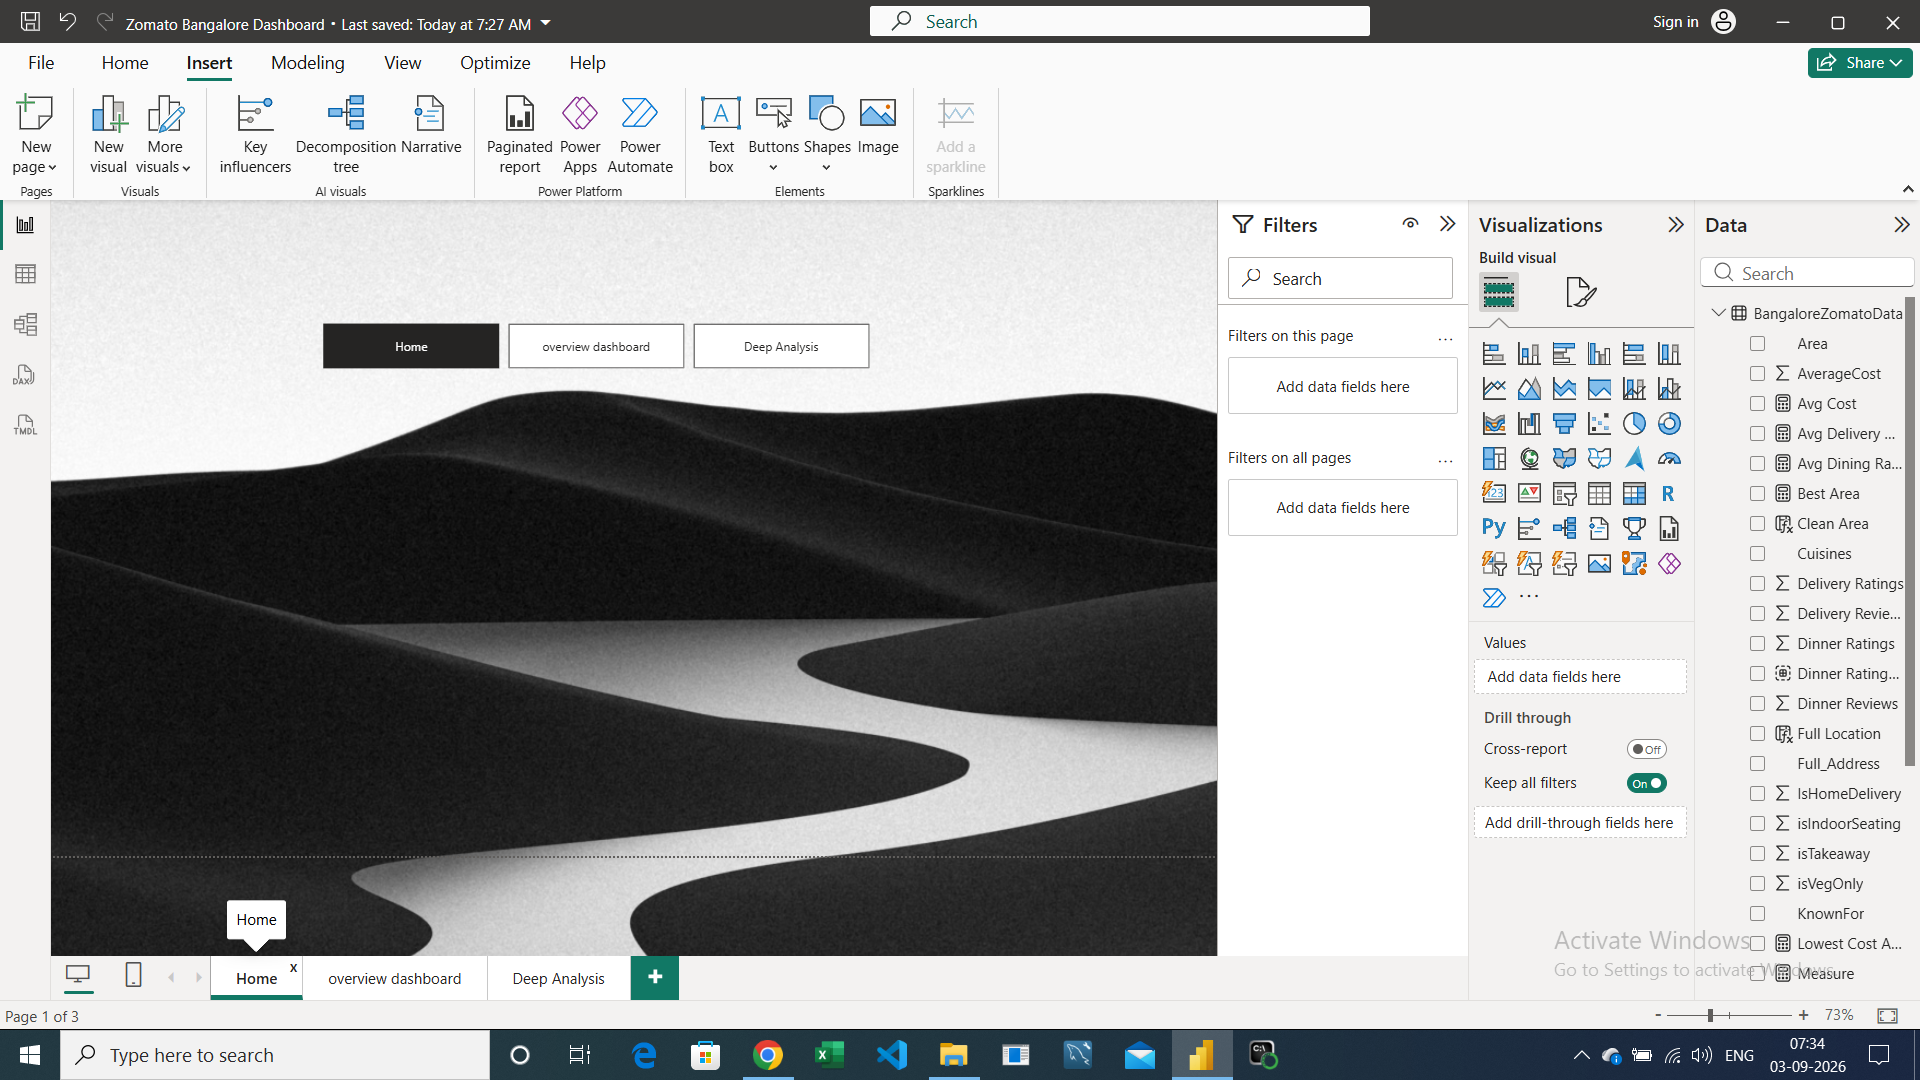

Layout of this report page (visuals, bound fields, positions):
{"tool":"powerbi","page":{"name":"Home","canvas":[1280,720],"ordinal":0},"visuals":[{"type":"pageNavigator","box":[458.4,311.1,644.3,49.6],"z":0},{"type":"shape","box":[30.3,183.1,205.1,190],"z":1000},{"type":"shape","box":[221.6,89.5,68.8,71.6],"z":2000}]}

Visuals, with their boxes on the page's 1280x720 design canvas (x1, y1, x2, y2). These are canvas units, not pixel positions in the 1920x1080 screenshot, which may show the page scaled, cropped or inside an application window:
pageNavigator: 458/311/1103/361
shape: 30/183/235/373
shape: 222/90/290/161
